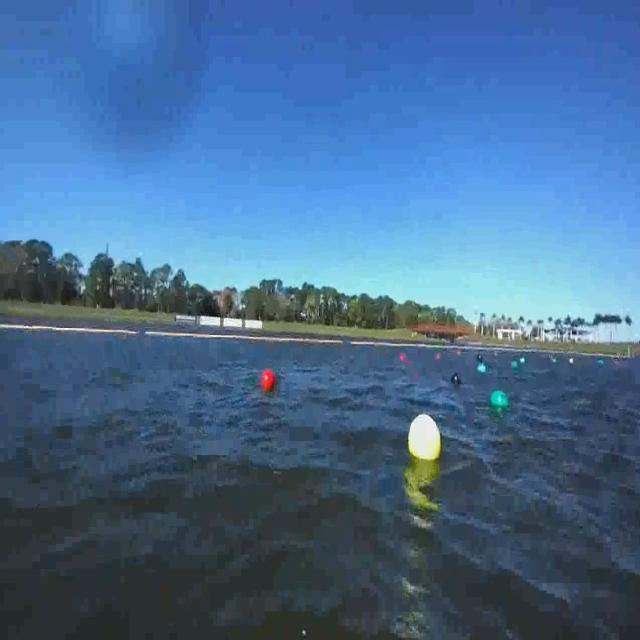black-buoy: (452, 374, 461, 387), (450, 372, 459, 384)
green-buoy: (490, 390, 508, 410), (480, 362, 487, 373)
red-buoy: (264, 369, 277, 392)
yellow-buoy: (408, 416, 442, 462)
